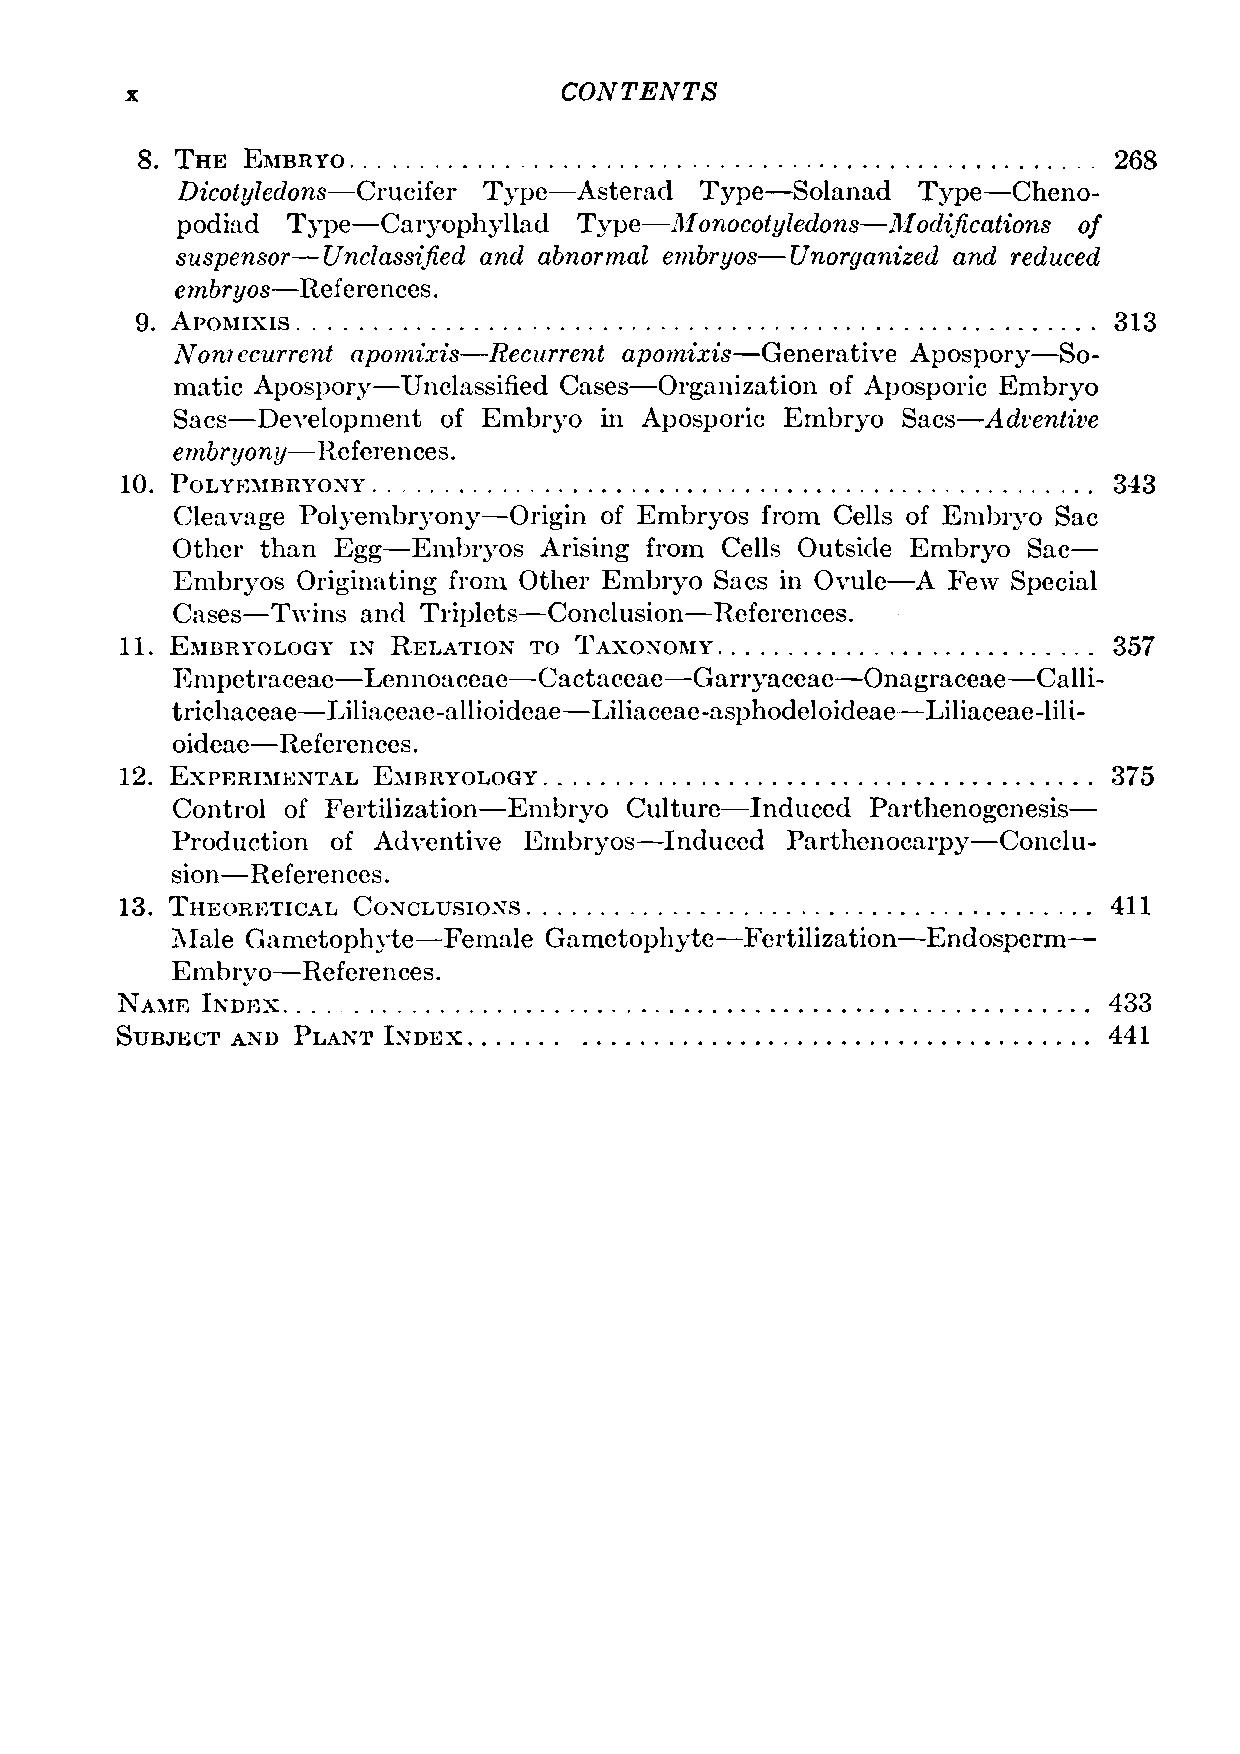TOC_chapter: (125, 137, 1111, 297), (123, 466, 1106, 625), (132, 311, 1108, 466), (114, 756, 1100, 892), (118, 628, 1108, 758), (114, 894, 1102, 986), (107, 1023, 472, 1053), (109, 985, 282, 1017)
TOC_pagenumber: (1111, 624, 1159, 667), (1111, 459, 1159, 501), (1104, 1019, 1159, 1051), (1114, 756, 1159, 792), (1114, 141, 1159, 174), (1108, 985, 1154, 1017), (1111, 887, 1147, 925), (1114, 309, 1162, 333)
chapter: (556, 76, 721, 109)
